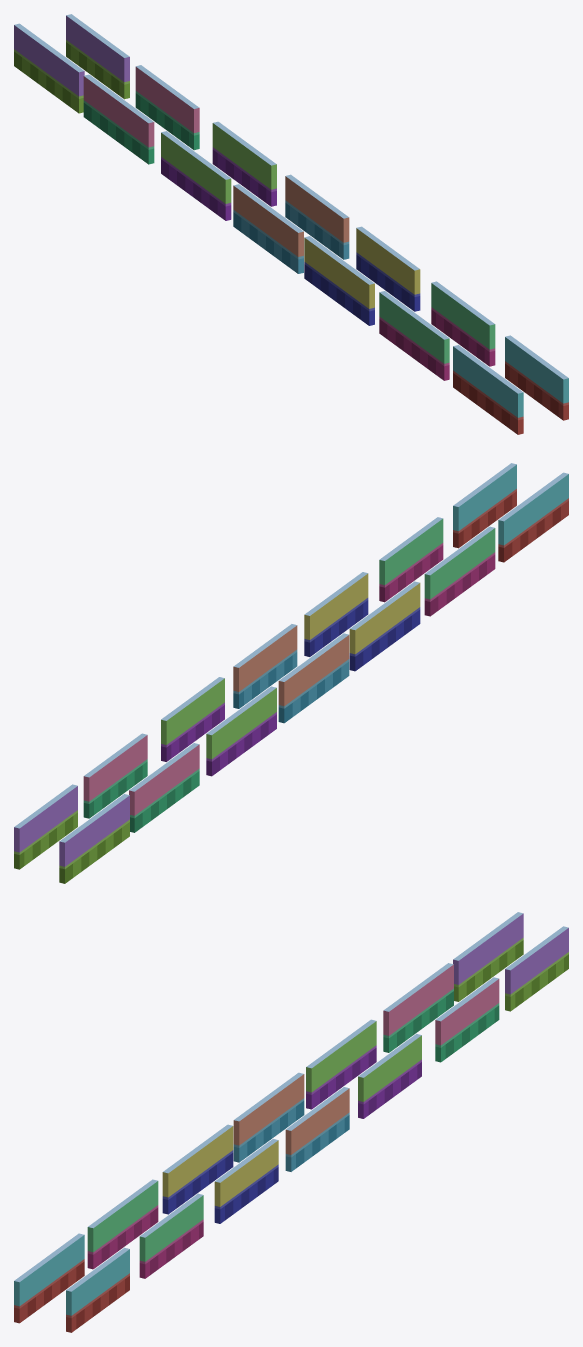
Rendered from WallsHotel2.fbx.
3 renders of one model, top to bottom at view 1: azimuth 30°, elevation 25°; view 2: azimuth 150°, elevation 25°; view 3: azimuth 330°, elevation 25°, orthographic.
Visible parts, largest first — view 1: WallHotel2Lvl6, WallHotel2Lvl2, WallHotel2Lvl5, WallHotel2Lvl1, WallHotel2Lvl3, WallHotel2Lvl4, WallHotel2Lvl7, WallHotel2ShortLvl3, WallHotel2ShortLvl6, WallHotel2ShortLvl2, WallHotel2ShortLvl4, WallHotel2ShortLvl5 (+2 smaller); view 2: WallHotel2Lvl2, WallHotel2Lvl3, WallHotel2Lvl4, WallHotel2Lvl1, WallHotel2Lvl5, WallHotel2Lvl7, WallHotel2Lvl6, WallHotel2ShortLvl2, WallHotel2ShortLvl6, WallHotel2ShortLvl3, WallHotel2ShortLvl4, WallHotel2ShortLvl7 (+2 smaller); view 3: WallHotel2Lvl2, WallHotel2Lvl3, WallHotel2Lvl4, WallHotel2Lvl1, WallHotel2Lvl6, WallHotel2Lvl5, WallHotel2Lvl7, WallHotel2ShortLvl2, WallHotel2ShortLvl6, WallHotel2ShortLvl3, WallHotel2ShortLvl4, WallHotel2ShortLvl7 (+2 smaller).
Part boxes in pixels (box(x1,y1,x2,y2)): WallHotel2Lvl6: box(83, 74, 154, 164); WallHotel2Lvl2: box(379, 291, 449, 380); WallHotel2Lvl5: box(161, 131, 231, 220); WallHotel2Lvl1: box(453, 345, 523, 434); WallHotel2Lvl3: box(304, 236, 374, 325); WallHotel2Lvl4: box(233, 184, 303, 273); WallHotel2Lvl7: box(14, 23, 84, 113); WallHotel2ShortLvl3: box(356, 226, 420, 311); WallHotel2ShortLvl6: box(135, 65, 199, 150); WallHotel2ShortLvl2: box(431, 281, 495, 366); WallHotel2ShortLvl4: box(285, 174, 349, 259); WallHotel2ShortLvl5: box(212, 121, 276, 206); WallHotel2Lvl2: box(424, 526, 495, 616); WallHotel2Lvl3: box(349, 581, 420, 671); WallHotel2Lvl4: box(278, 633, 349, 723); WallHotel2Lvl1: box(498, 472, 568, 562); WallHotel2Lvl5: box(206, 686, 276, 776); WallHotel2Lvl7: box(59, 794, 129, 883); WallHotel2Lvl6: box(129, 743, 199, 832); WallHotel2ShortLvl2: box(379, 517, 443, 602); WallHotel2ShortLvl6: box(83, 733, 147, 818); WallHotel2ShortLvl3: box(304, 572, 368, 656); WallHotel2ShortLvl4: box(233, 624, 297, 708); WallHotel2ShortLvl7: box(14, 784, 77, 869); WallHotel2Lvl2: box(87, 1179, 158, 1269); WallHotel2Lvl3: box(162, 1124, 233, 1214); WallHotel2Lvl4: box(233, 1072, 304, 1162); WallHotel2Lvl1: box(14, 1233, 84, 1323); WallHotel2Lvl6: box(383, 963, 453, 1052); WallHotel2Lvl5: box(306, 1019, 376, 1109); WallHotel2Lvl7: box(453, 912, 523, 1001); WallHotel2ShortLvl2: box(139, 1193, 203, 1278); WallHotel2ShortLvl6: box(435, 977, 499, 1062); WallHotel2ShortLvl3: box(214, 1139, 278, 1223); WallHotel2ShortLvl4: box(285, 1087, 349, 1171); WallHotel2ShortLvl7: box(505, 926, 568, 1011).
Size of the model in its own units: 290 by 210 by 4657.
